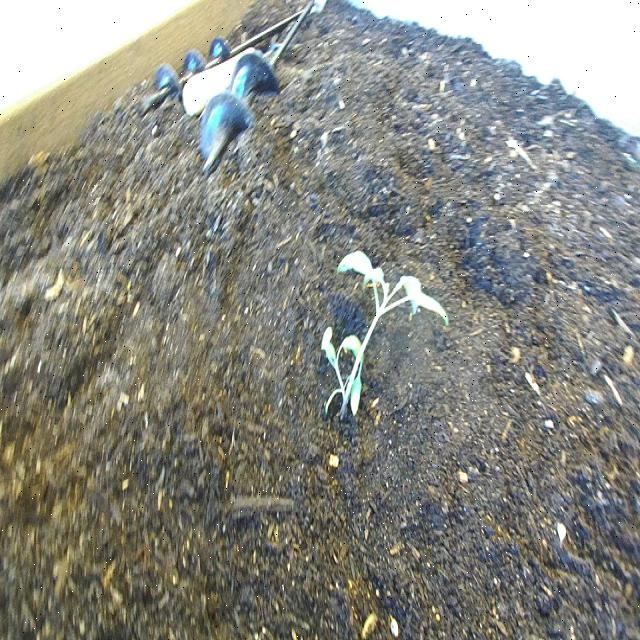Unhealthy: (317, 243, 455, 438)
